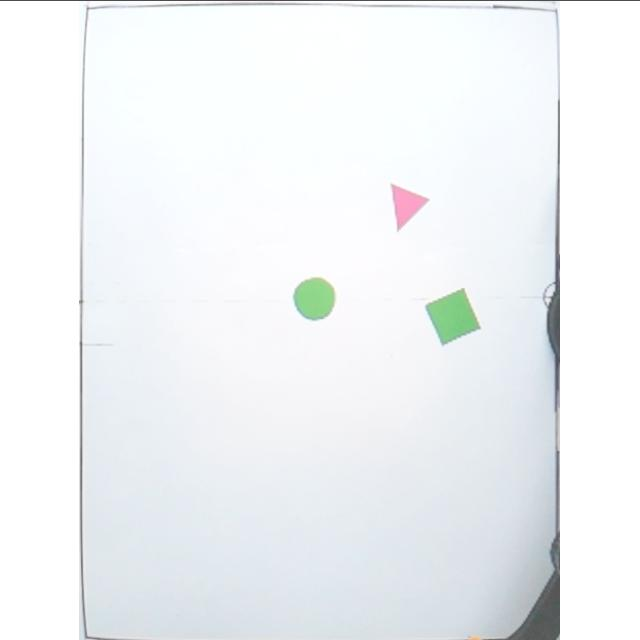greenCircle: (294, 276, 342, 322)
greenSquare: (423, 286, 487, 346)
pinkTriangle: (388, 182, 436, 238)
